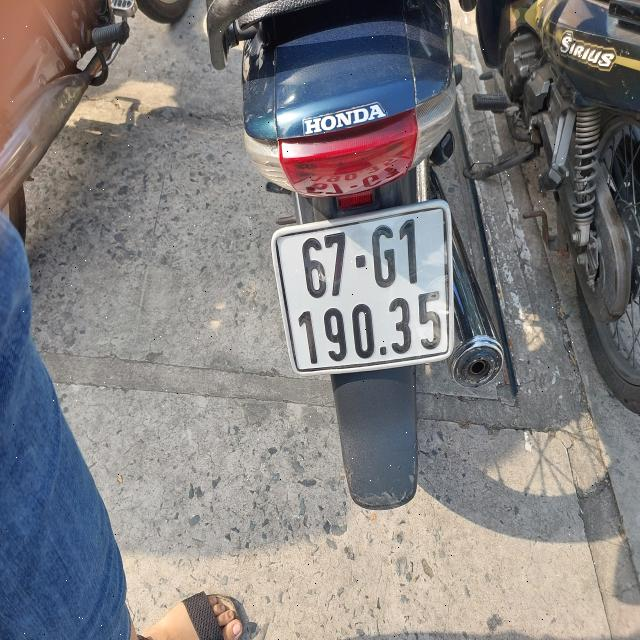0: (350, 302, 376, 358)
1: (396, 220, 422, 285), (294, 308, 320, 363)
3: (386, 296, 415, 357)
5: (417, 292, 446, 354)
6: (296, 236, 326, 299)
7: (326, 231, 349, 297)
9: (324, 306, 350, 362)
G: (370, 225, 400, 292)
